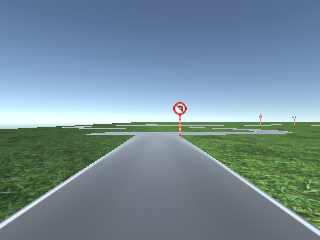0: (1, 185, 320, 238)
NoLeft: (173, 102, 187, 115)
